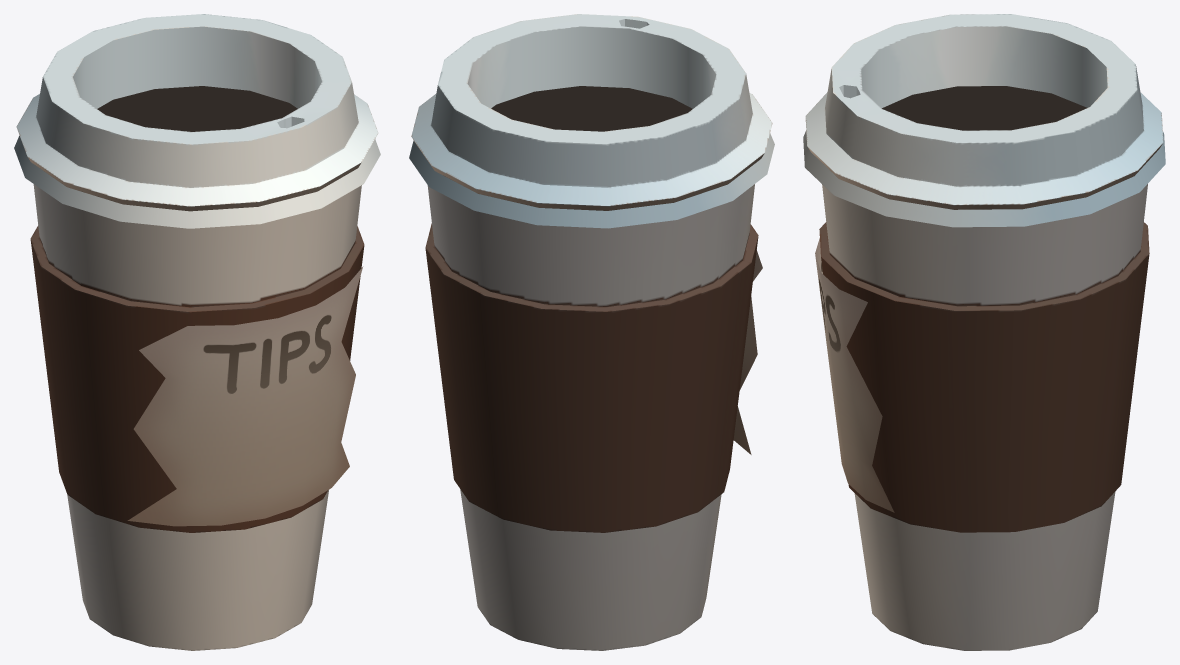
The model's file is Tips_3.fbx.
3 renders of one model, left to right at view 1: azimuth 30°, elevation 25°; view 2: azimuth 150°, elevation 25°; view 3: azimuth 270°, elevation 25°, orthographic.
Visible parts, largest first — view 1: starbuckscup2low, Cylinder.001; view 2: starbuckscup2low, Cylinder.001; view 3: starbuckscup2low, Cylinder.001.
Part boxes in pixels (x1,y1,x2,y2): starbuckscup2low: (14,14,380,650); Cylinder.001: (127,266,363,526); starbuckscup2low: (409,14,774,650); Cylinder.001: (733,250,762,454); starbuckscup2low: (803,14,1165,650); Cylinder.001: (815,238,894,512).
Bounding box in the file's own units: 5.39 × 8.61 × 5.39.
